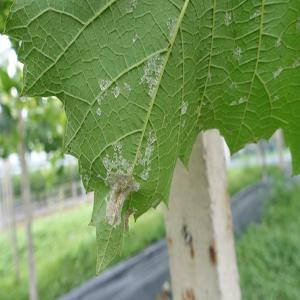Folha: (1, 0, 299, 275)
Fungo: (96, 18, 178, 230), (95, 18, 178, 116), (98, 131, 157, 228), (138, 18, 178, 99), (102, 131, 156, 183), (103, 171, 139, 229), (139, 52, 165, 98), (135, 130, 157, 180), (102, 142, 132, 176), (165, 18, 177, 39), (272, 65, 284, 79), (98, 78, 110, 91), (232, 46, 242, 60), (110, 85, 120, 98), (96, 91, 106, 104), (180, 100, 188, 115), (224, 12, 231, 27), (123, 82, 131, 92), (274, 37, 282, 47), (132, 33, 138, 43), (96, 108, 101, 117)
